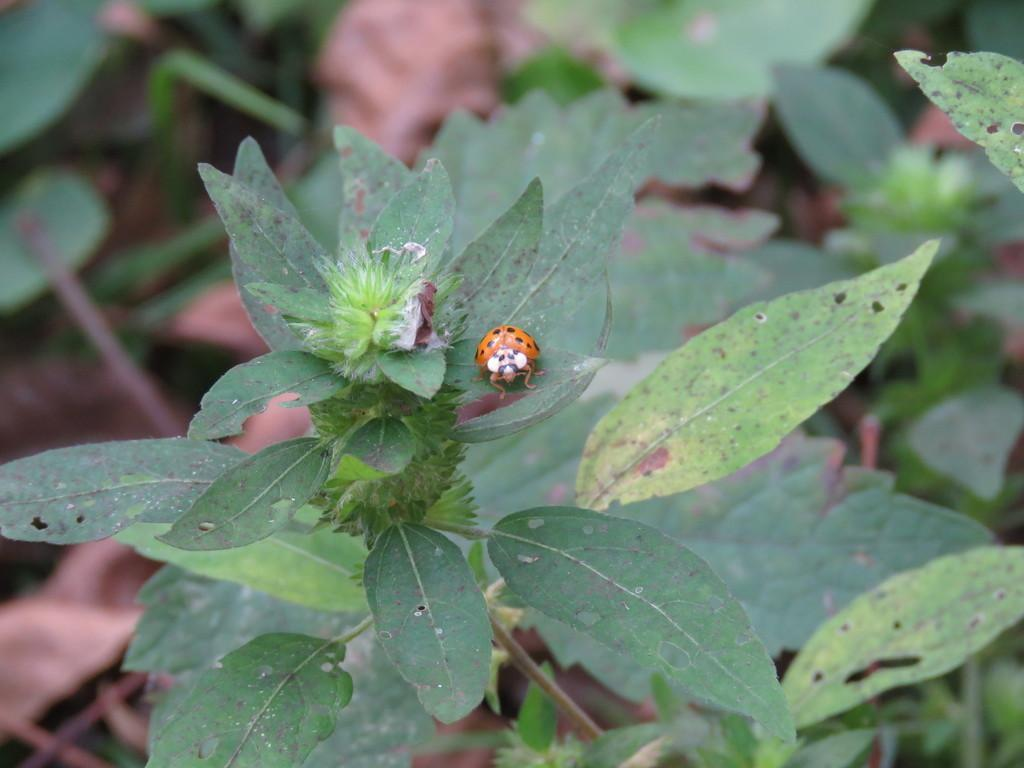ladybug: (471, 324, 548, 401)
